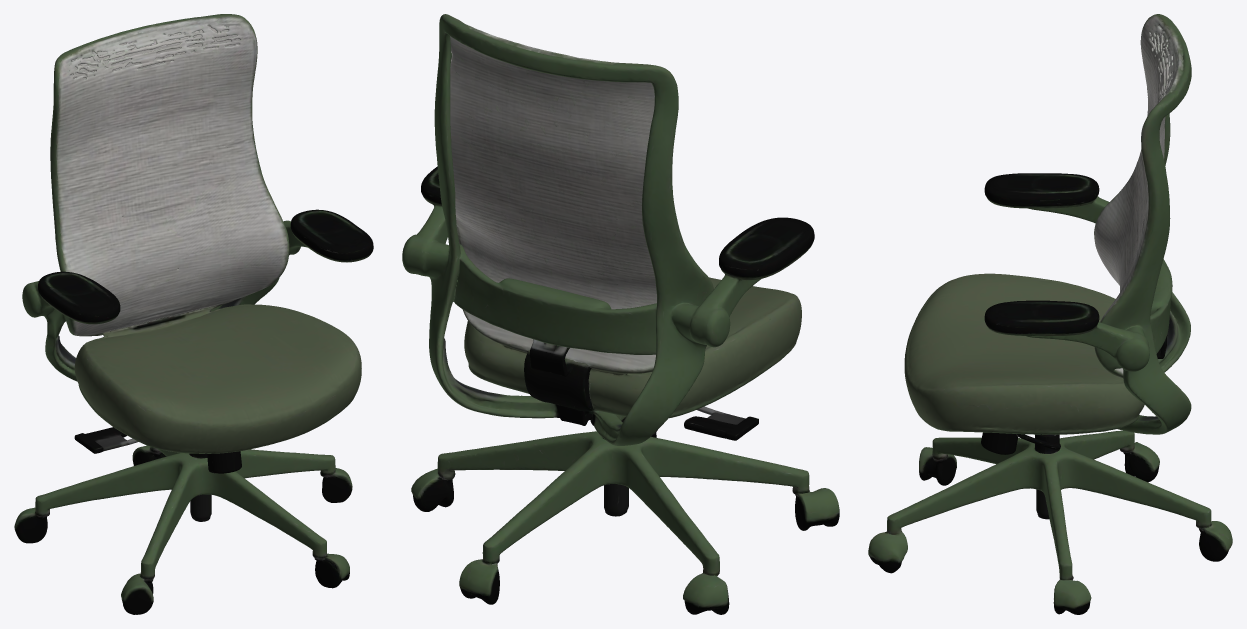
File: 16_网背扶手办公椅.glb
3 renders of one model, left to right at view 1: azimuth 30°, elevation 25°; view 2: azimuth 150°, elevation 25°; view 3: azimuth 270°, elevation 25°, orthographic. The views are drawn at different scales.
Parts seen in each view (by area): view 1: world; view 2: world; view 3: world.
Boxes of the visible parts, box(x1,y1,x2,y2) form: world: box(14, 14, 373, 614); world: box(402, 14, 839, 614); world: box(868, 14, 1232, 614).
Bounding box in the file's own units: 0.7025 × 1 × 0.6882.
1 material, 1 textured.
